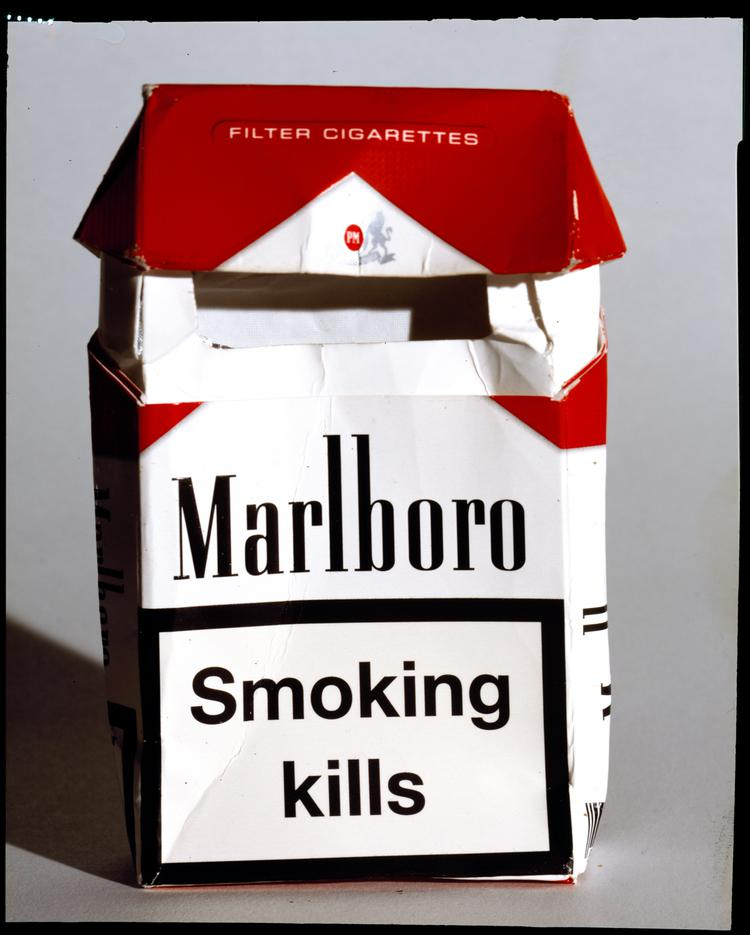marlboro_red: (141, 97, 578, 884)
